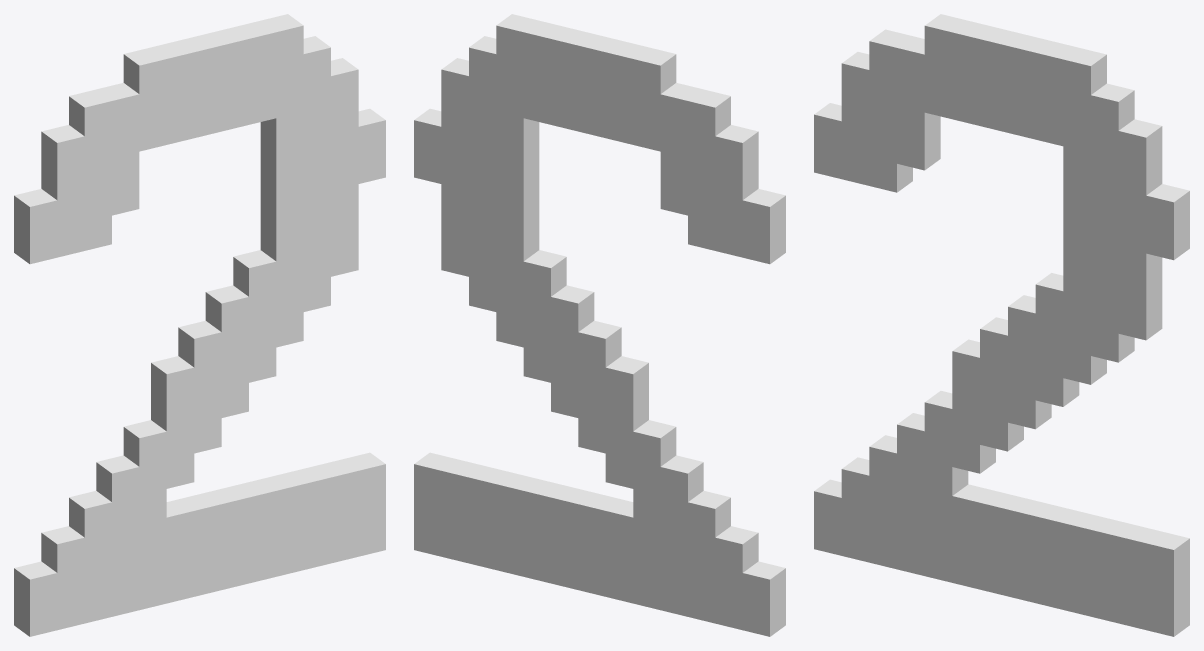
3 views of the same model, side by side, from view 1: azimuth 30°, elevation 25°; view 2: azimuth 150°, elevation 25°; view 3: azimuth 330°, elevation 25° (orthographic).
Parts seen in each view (by area): view 1: box_77; view 2: box_77; view 3: box_77.
Boxes of the visible parts, x1,y1,x2,y2 form: box_77: (14,14,385,636); box_77: (414,14,785,636); box_77: (814,14,1189,636).
Bounding box in the file's own units: 1.3 × 1.9 × 0.1.
1 material, 1 textured.
